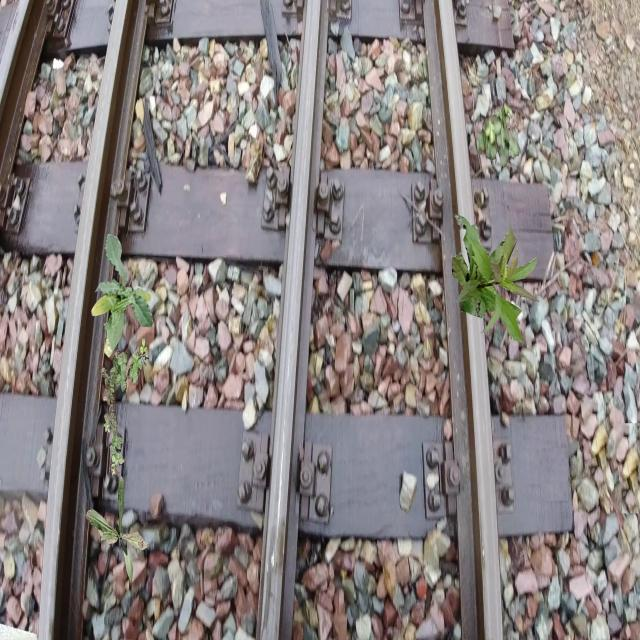Plant: (452, 214, 540, 344), (91, 233, 154, 358), (85, 476, 149, 588), (101, 339, 150, 477), (476, 101, 520, 168)
